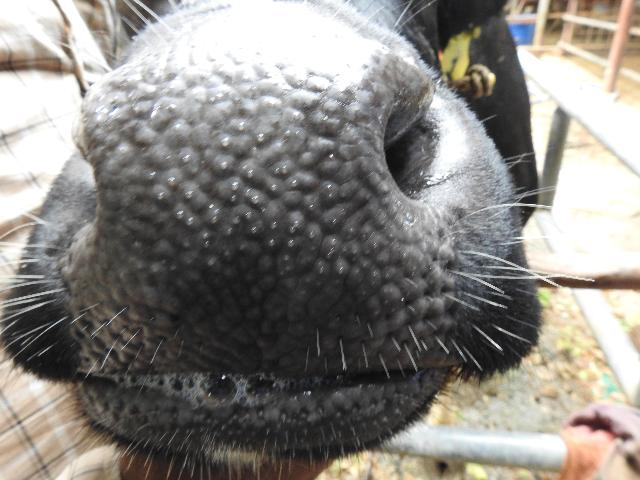Muzzle: (99, 59, 414, 357)
